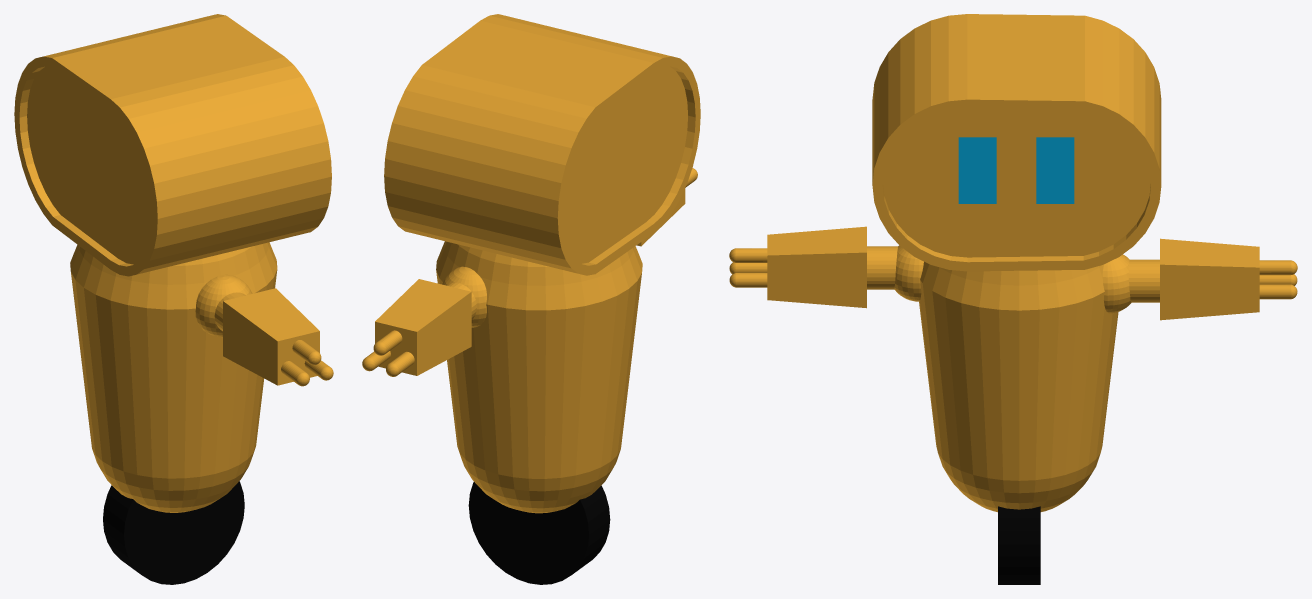
Rendered from customer.fbx.
The picture shows the model from 3 angles, left to right: view 1: azimuth 30°, elevation 25°; view 2: azimuth 150°, elevation 25°; view 3: azimuth 270°, elevation 25°; orthographic projection.
Parts seen in each view (by area): view 1: head, body, left hand, leg; view 2: head, body, leg, right hand; view 3: head, body, right hand, left hand, eyes, leg.
Part boxes in pixels (x1,y1,x2,y2): head: (14,14,331,276); body: (70,242,277,512); left hand: (195,274,333,386); leg: (103,481,244,584); head: (384,14,700,275); body: (436,241,642,513); leg: (468,482,610,584); right hand: (362,266,486,376); head: (872,14,1161,271); body: (919,261,1118,512); right hand: (1102,238,1297,320); left hand: (729,226,923,308); eyes: (958,137,1074,203); leg: (998,506,1040,584).
Size of the model in its own units: 252 by 693 by 685.
